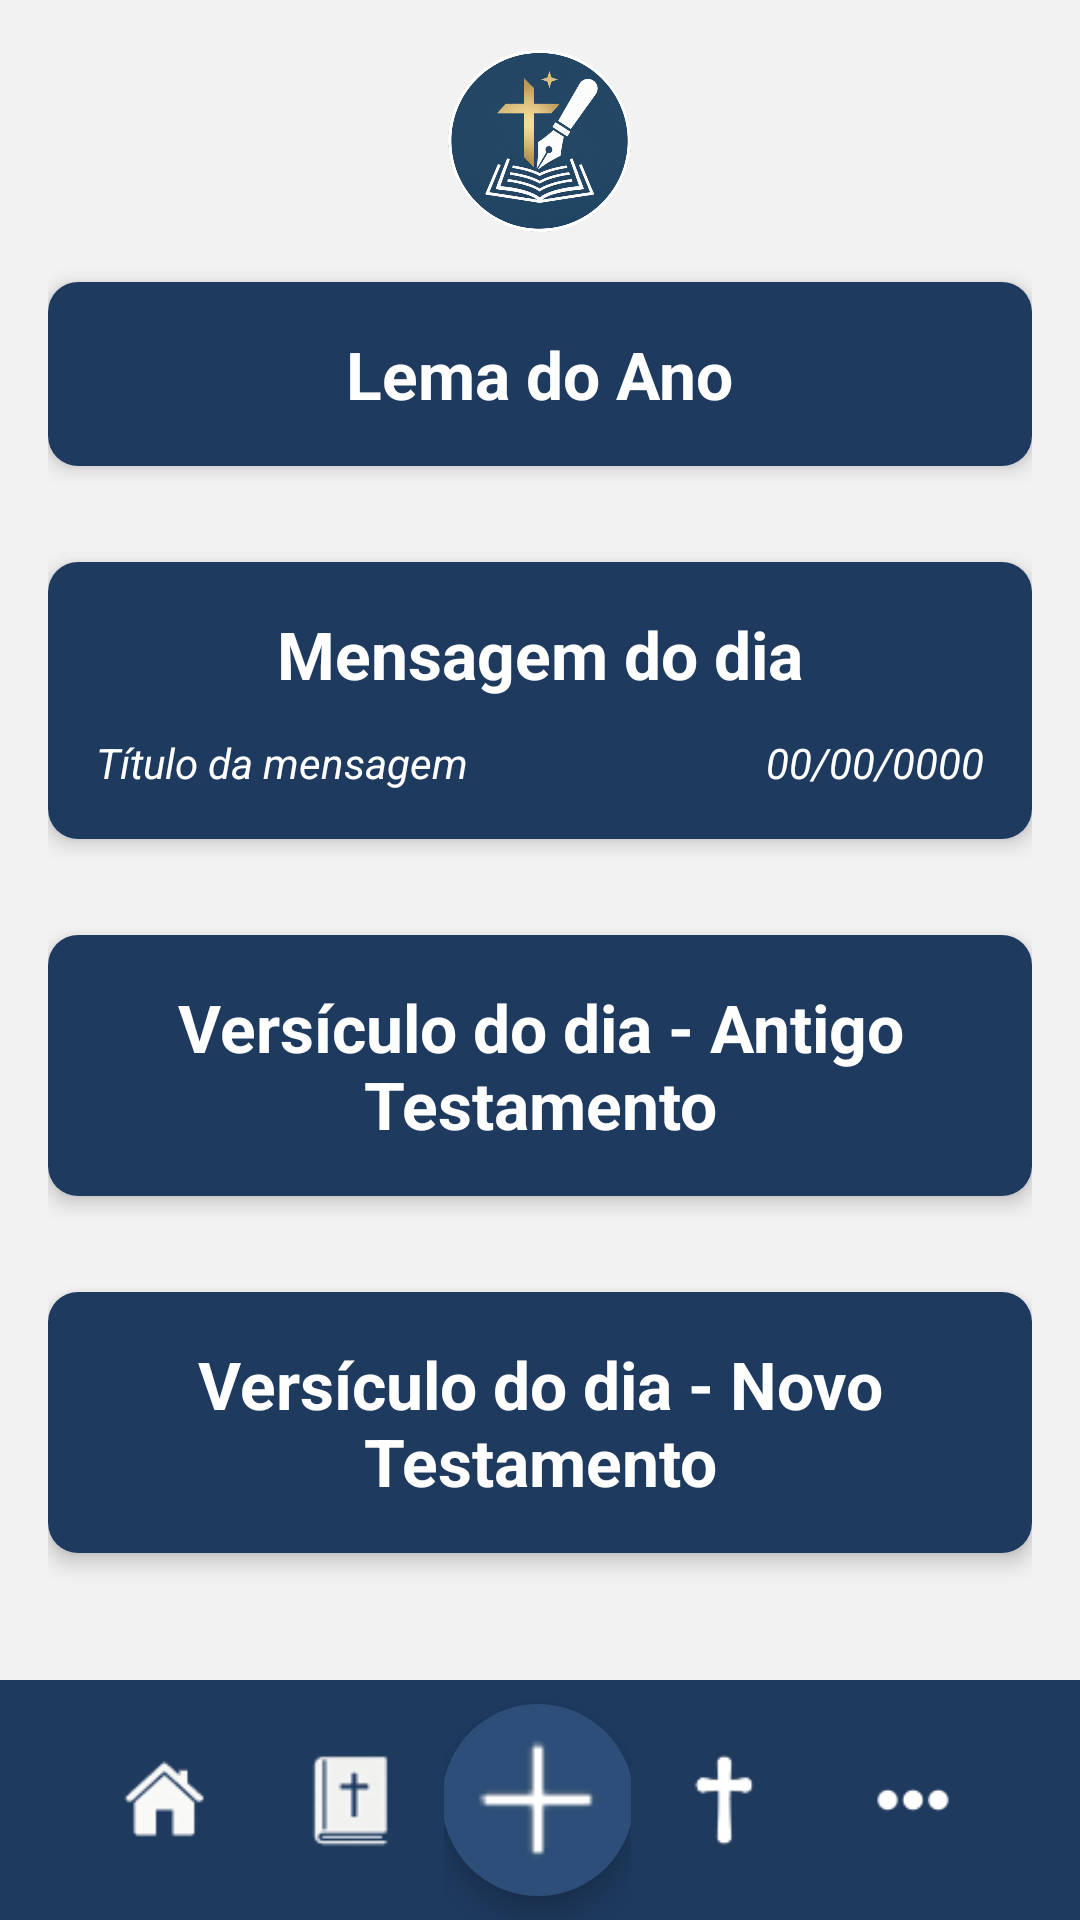

Icon click points for this 1080 x 1920 phone screenshot, format (x,y):
Bíblia: (350,1801)
Cruz: (724,1800)
Início: (164,1799)
Mais: (913,1800)
